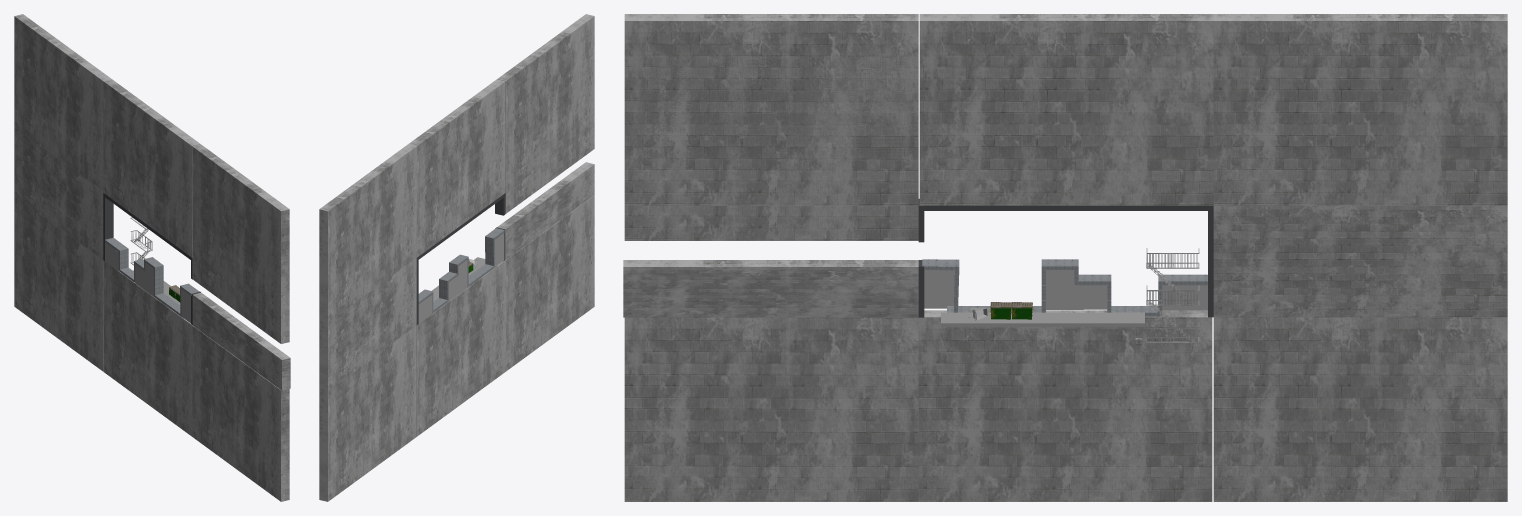
Rendered from Stage0.fbx.
3 views of the same model, side by side, from view 1: azimuth 30°, elevation 25°; view 2: azimuth 150°, elevation 25°; view 3: azimuth 270°, elevation 25° (orthographic). The views are drawn at different scales.
Visible parts, largest first — view 1: polySurface123, polySurface129, polySurface122, polySurface125, polySurface128, polySurface127, polySurface126, polySurface124, polySurface79, polySurface8, pPlane4, stage_tutor (+1 smaller); view 2: polySurface125, polySurface127, polySurface122, polySurface123, polySurface128, polySurface129, polySurface126, polySurface79, polySurface124, pPlane4, polySurface6; view 3: polySurface122, polySurface125, polySurface123, polySurface127, polySurface129, polySurface128, polySurface126, polySurface124, polySurface79, floor_def156, stage_tutor, pPlane4 (+3 smaller).
Boxes of the visible parts, x1,y1,x2,y2 form: polySurface123: (192, 144, 289, 322); polySurface129: (192, 325, 289, 501); polySurface122: (103, 79, 200, 257); polySurface125: (14, 14, 111, 190); polySurface128: (103, 261, 192, 436); polySurface127: (14, 195, 103, 371); polySurface126: (14, 127, 103, 259); polySurface124: (192, 168, 289, 343); polySurface79: (192, 292, 290, 390); polySurface8: (103, 193, 113, 260); pPlane4: (135, 263, 153, 296); stage_tutor: (130, 217, 152, 265); polySurface125: (319, 144, 416, 322); polySurface127: (319, 326, 416, 501); polySurface122: (408, 79, 505, 257); polySurface123: (497, 14, 594, 192); polySurface128: (416, 260, 505, 436); polySurface129: (506, 195, 594, 371); polySurface126: (319, 257, 416, 390); polySurface79: (497, 162, 594, 259); polySurface124: (505, 44, 594, 213); pPlane4: (449, 260, 467, 300); polySurface6: (418, 193, 505, 259); polySurface122: (919, 14, 1213, 205); polySurface125: (1213, 14, 1507, 205); polySurface123: (624, 14, 918, 205); polySurface127: (1213, 317, 1507, 501); polySurface129: (624, 317, 918, 501); polySurface128: (918, 310, 1212, 501); polySurface126: (1213, 203, 1507, 317); polySurface124: (624, 56, 918, 240); polySurface79: (623, 260, 918, 317); floor_def156: (941, 312, 1144, 326); stage_tutor: (1135, 248, 1199, 345); pPlane4: (1046, 270, 1107, 309).
Bounding box in the file's own units: 680 × 6438 × 10726.
